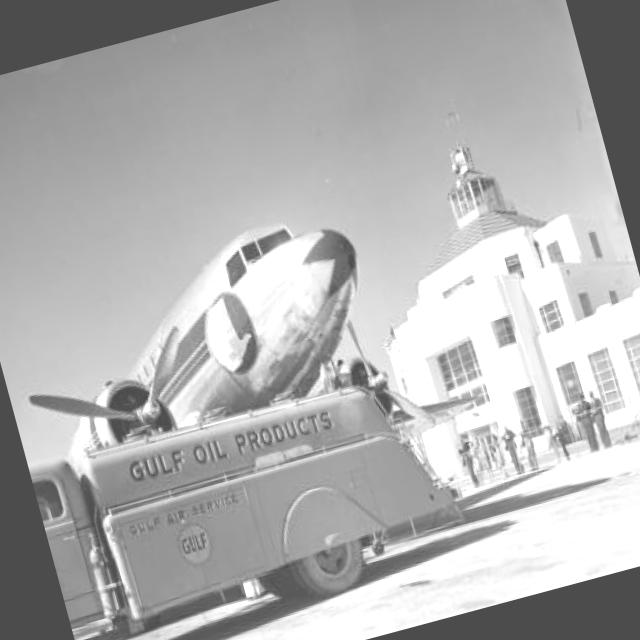Vehicle: (27, 360, 470, 640)
